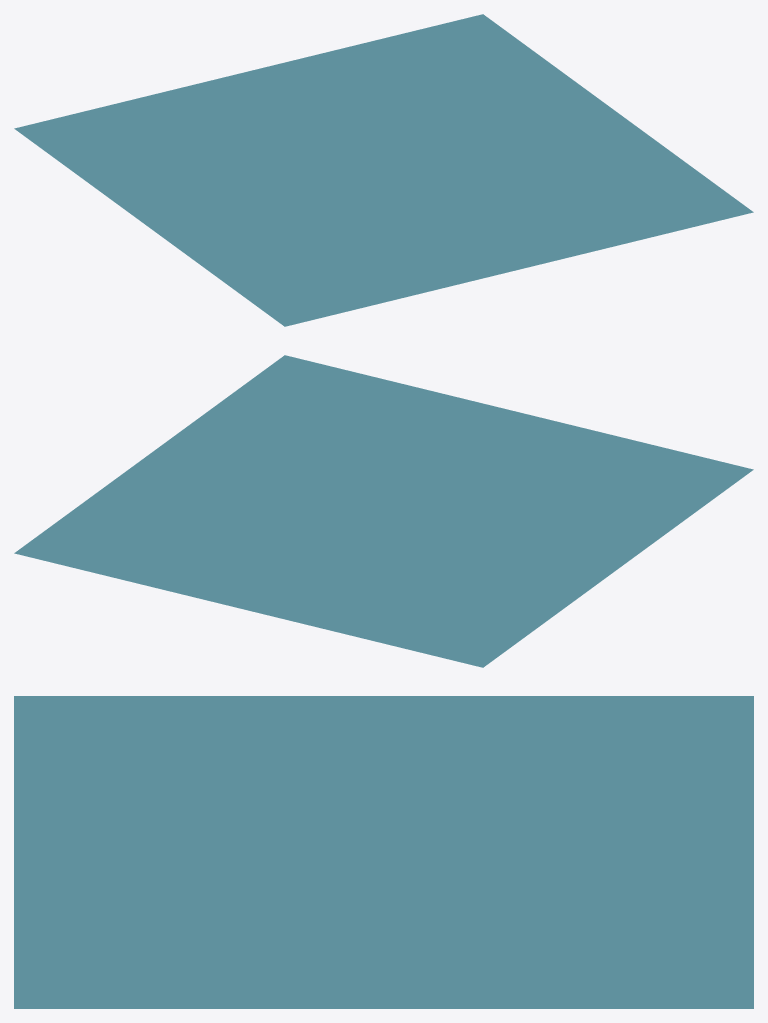
Rendered from SM_WaterGrid.fbx.
3 renders of one model, top to bottom at view 1: azimuth 30°, elevation 25°; view 2: azimuth 150°, elevation 25°; view 3: azimuth 270°, elevation 25°, orthographic. The views are drawn at different scales.
Parts seen in each view (by area): view 1: pPlane1; view 2: pPlane1; view 3: pPlane1.
Boxes of the visible parts, left/top/right/bottom form: pPlane1: left=14, top=14, right=753, bottom=326; pPlane1: left=14, top=355, right=753, bottom=667; pPlane1: left=14, top=696, right=753, bottom=1008.
Size of the model in its own units: 12147 by 2.22e-12 by 12147.
